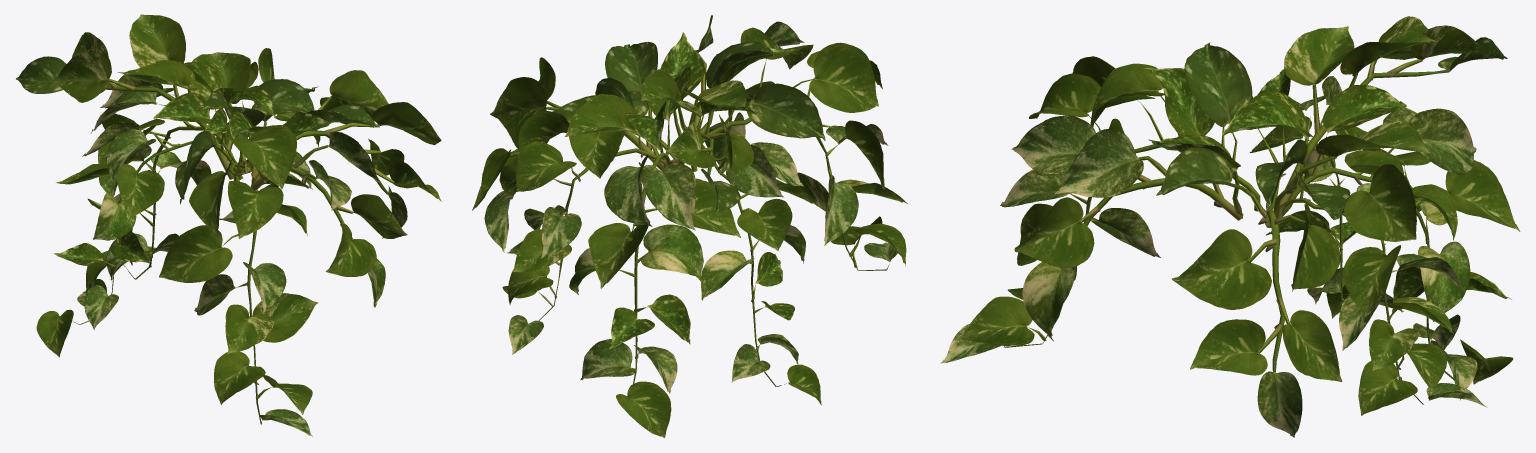
Rendered from trail-pothos-real.glb.
The picture shows the model from 3 angles, left to right: view 1: azimuth 30°, elevation 25°; view 2: azimuth 150°, elevation 25°; view 3: azimuth 270°, elevation 25°; orthographic projection. The views are drawn at different scales.
Parts seen in each view (by area): view 1: plant; view 2: plant; view 3: plant.
Part boxes in pixels (bbox=[...]): plant: bbox=[16, 14, 441, 436]; plant: bbox=[472, 15, 907, 437]; plant: bbox=[940, 16, 1520, 437].
Bounding box in the file's own units: 1.2 × 1 × 1.41.
Materials: 1 (1 with a texture image).
